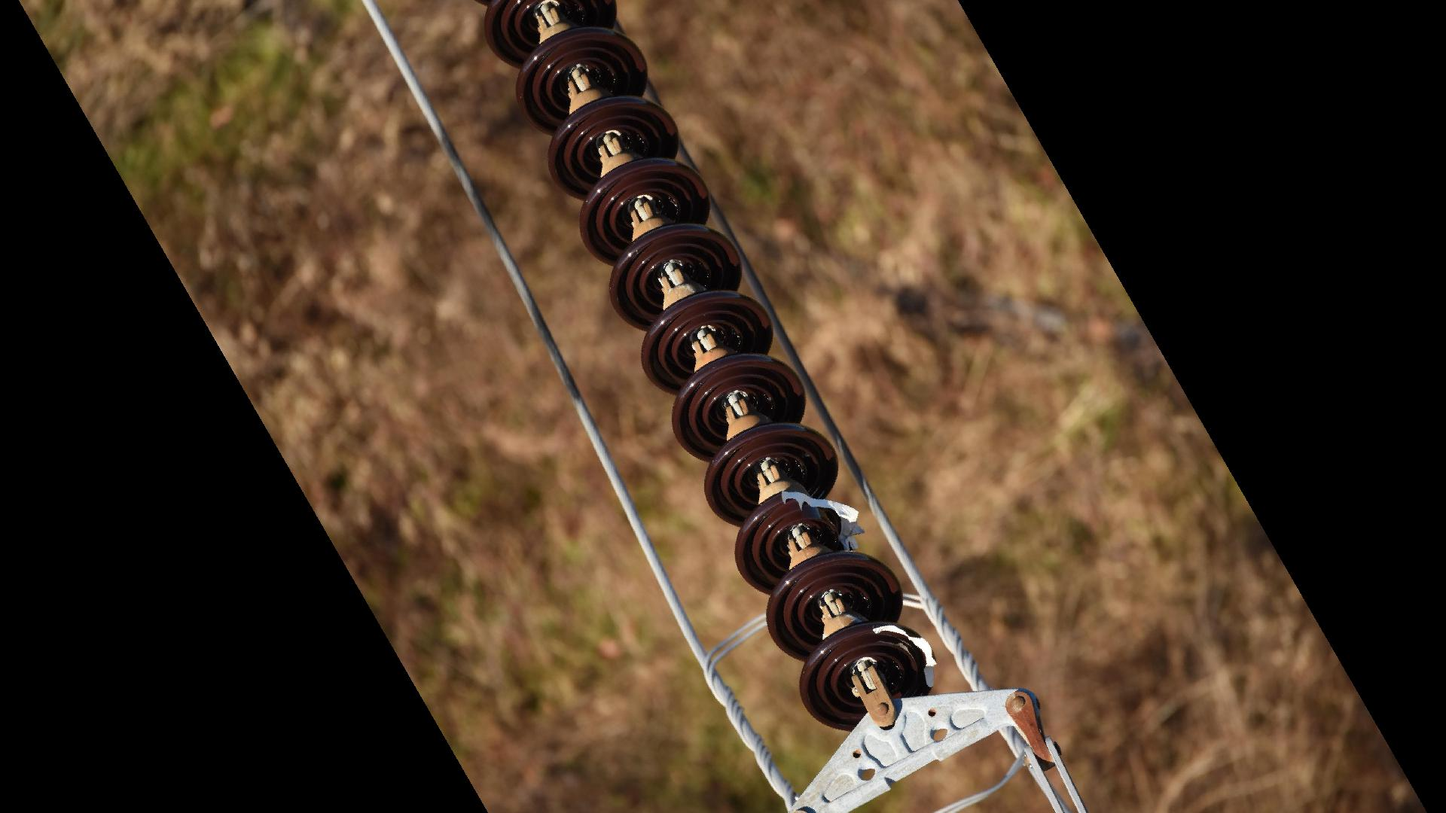insulator: (478, 1, 938, 741)
insulator_breakage: (770, 483, 871, 555), (868, 620, 944, 693)
